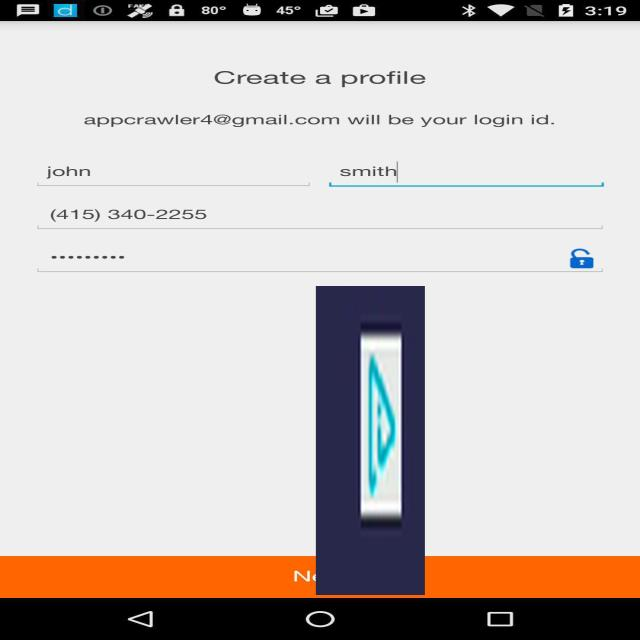sneaking: (316, 286, 425, 595)
